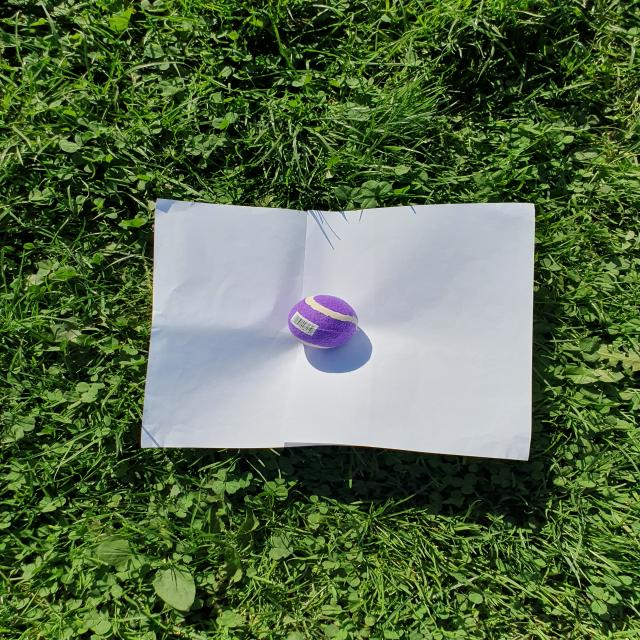purple: (288, 295, 358, 349)
